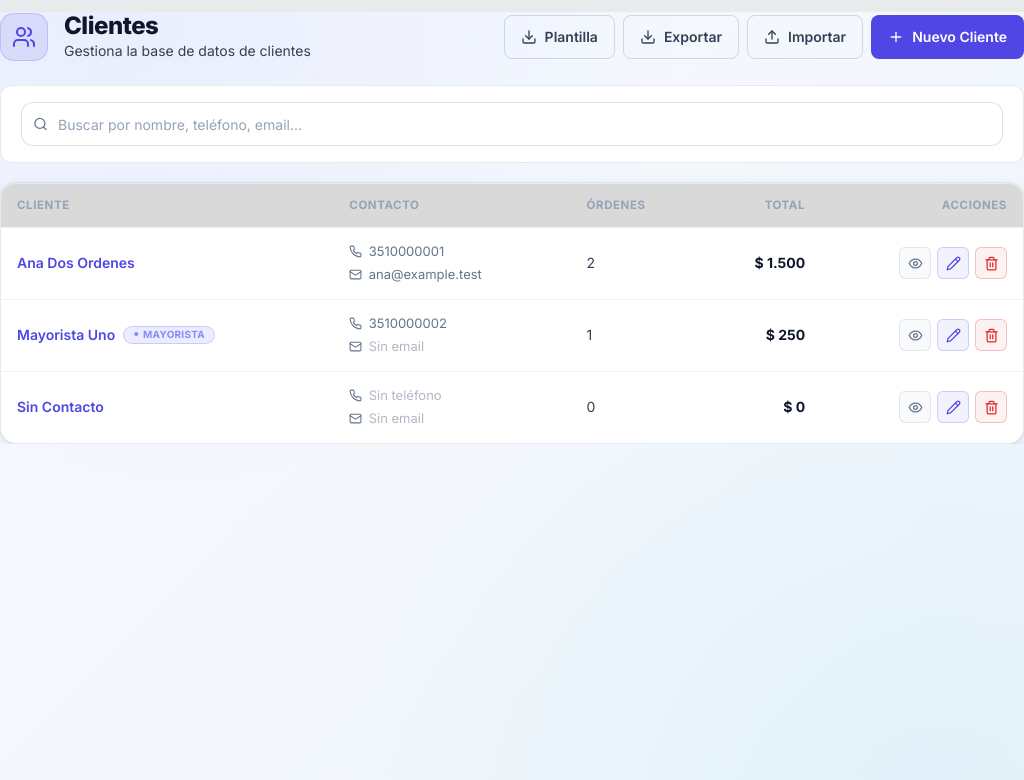
Test: BETA-UX-1D · Clientes · el estado vacío vive fuera de la tabla › una búsqueda sin coincidencias ofrece «Limpiar búsqueda» y vuelve a la lista
Type "zzz no existe" into the field with test id "customers-search-input" at (512, 124), box left=21, top=102, right=1003, bottom=146
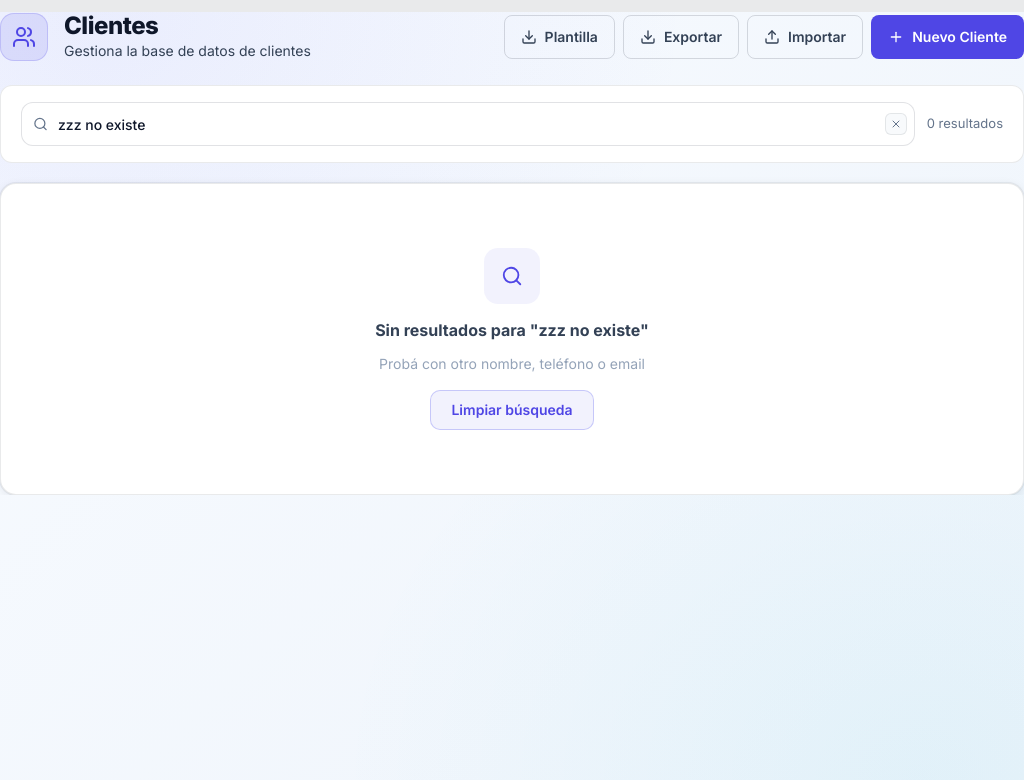
Expected: the element with test id "customers-empty-state" shows "Sin resultados para \"zzz no existe\"", left=375, top=320, right=649, bottom=340
Expected: the table is gone
Click the button "Limpiar búsqueda" at (512, 410), box left=430, top=390, right=594, bottom=430
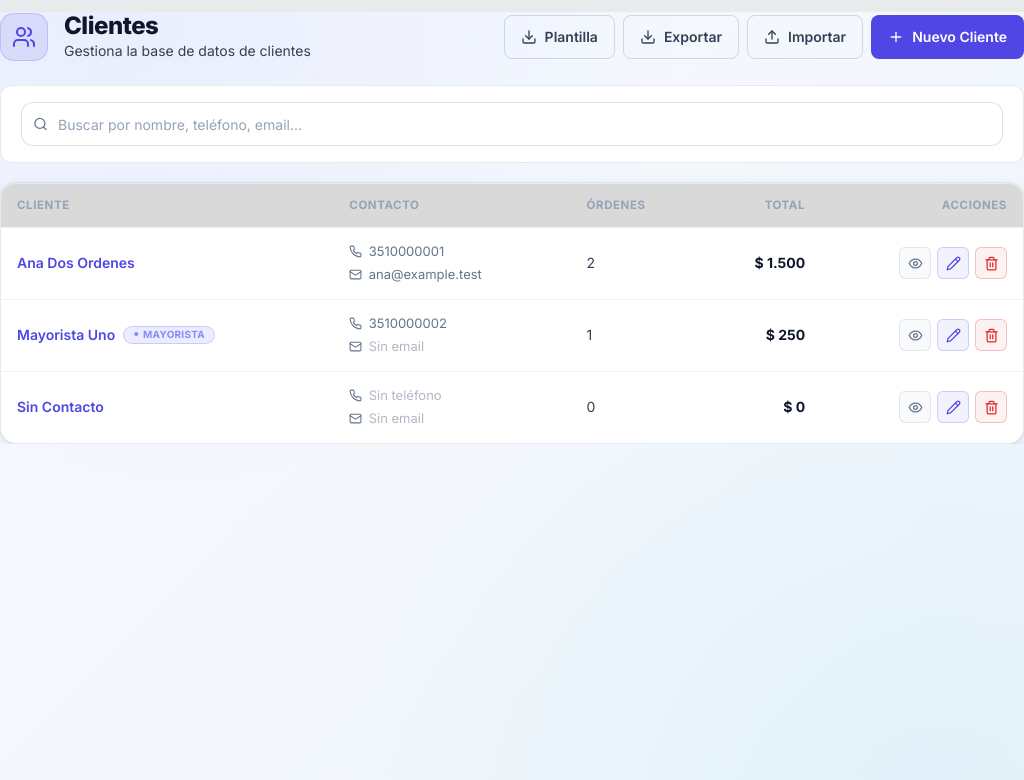
Expected: the field with test id "customers-search-input" is empty, left=21, top=102, right=1003, bottom=146
